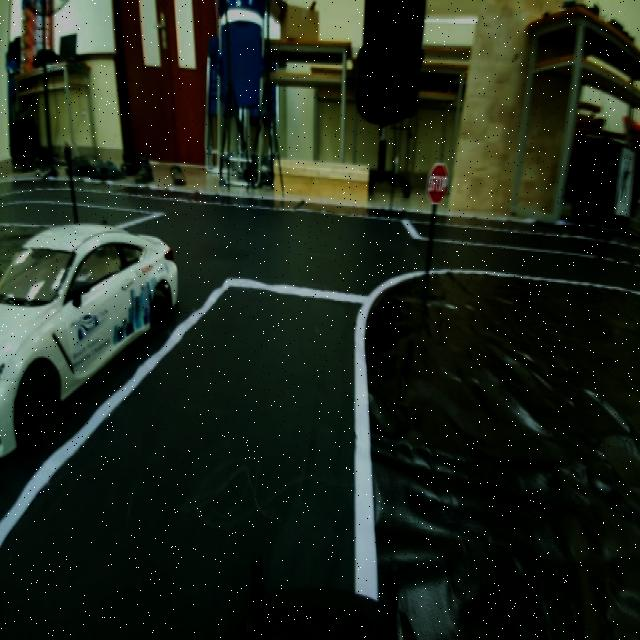car: (0, 157, 177, 450)
stop: (423, 151, 453, 209)
